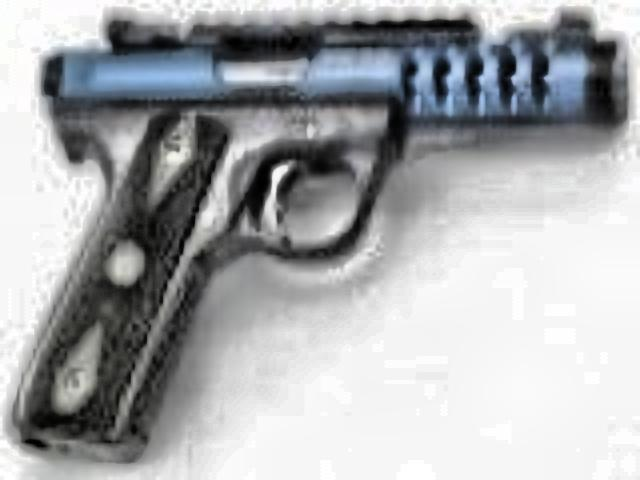pistol: (0, 8, 624, 456)
